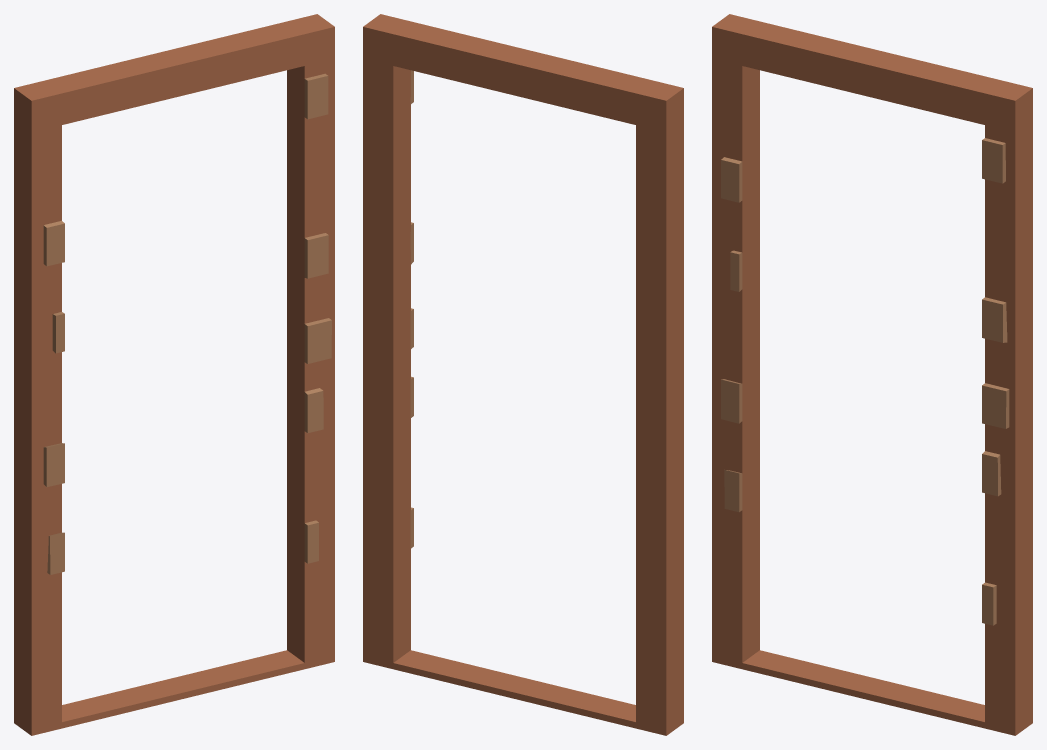
File: BrickV3Doorframe.fbx
3 views of the same model, side by side, from view 1: azimuth 30°, elevation 25°; view 2: azimuth 150°, elevation 25°; view 3: azimuth 330°, elevation 25° (orthographic).
Visible parts, largest first — view 1: BrickV3Doorframe; view 2: BrickV3Doorframe; view 3: BrickV3Doorframe.
Part boxes in pixels (left/top/right/bottom): BrickV3Doorframe: left=14, top=14, right=334, bottom=735; BrickV3Doorframe: left=363, top=14, right=683, bottom=735; BrickV3Doorframe: left=712, top=14, right=1032, bottom=735.
Size of the model in its own units: 100 by 200 by 11.75.
